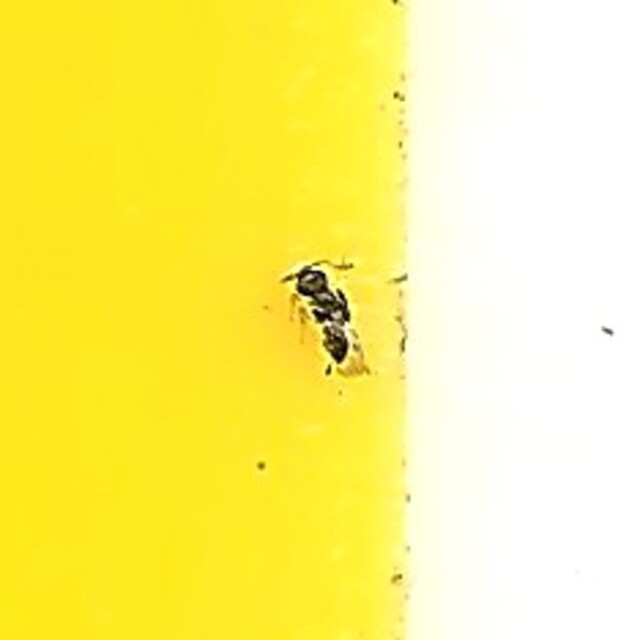Hymenoptera: (274, 253, 366, 387)
